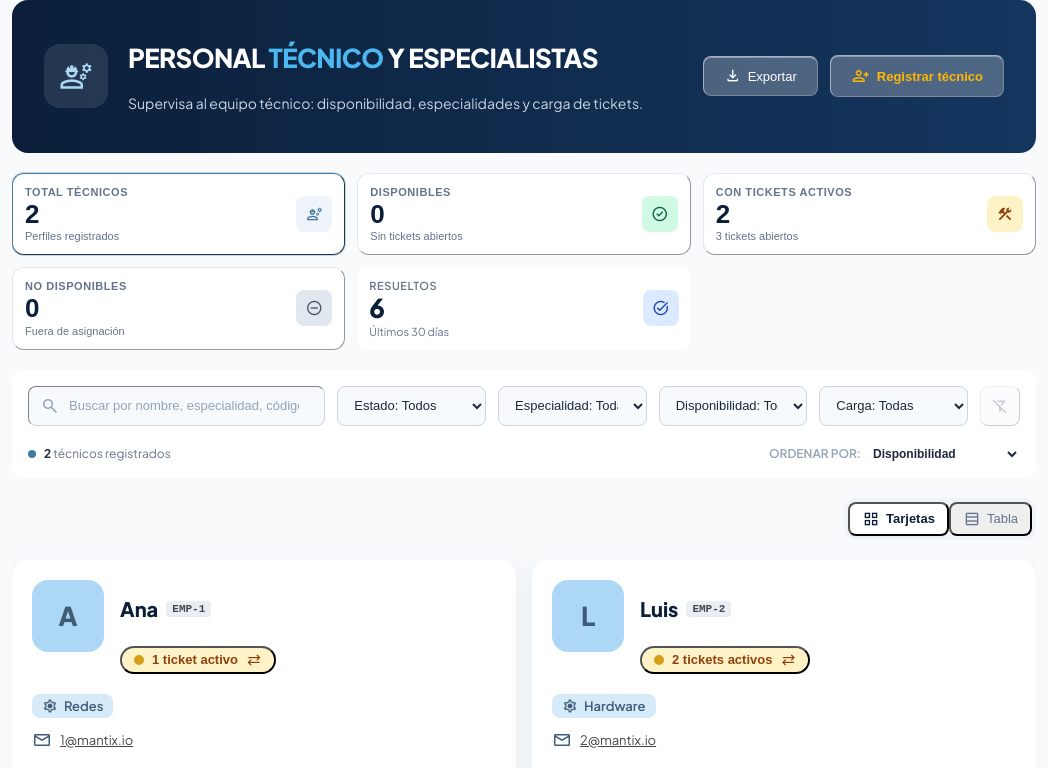
Test: TechniciansComponent › shows the hourly rate and the account state in the table
Click the button "Tabla" at (990, 519), box [949, 502, 1032, 536]
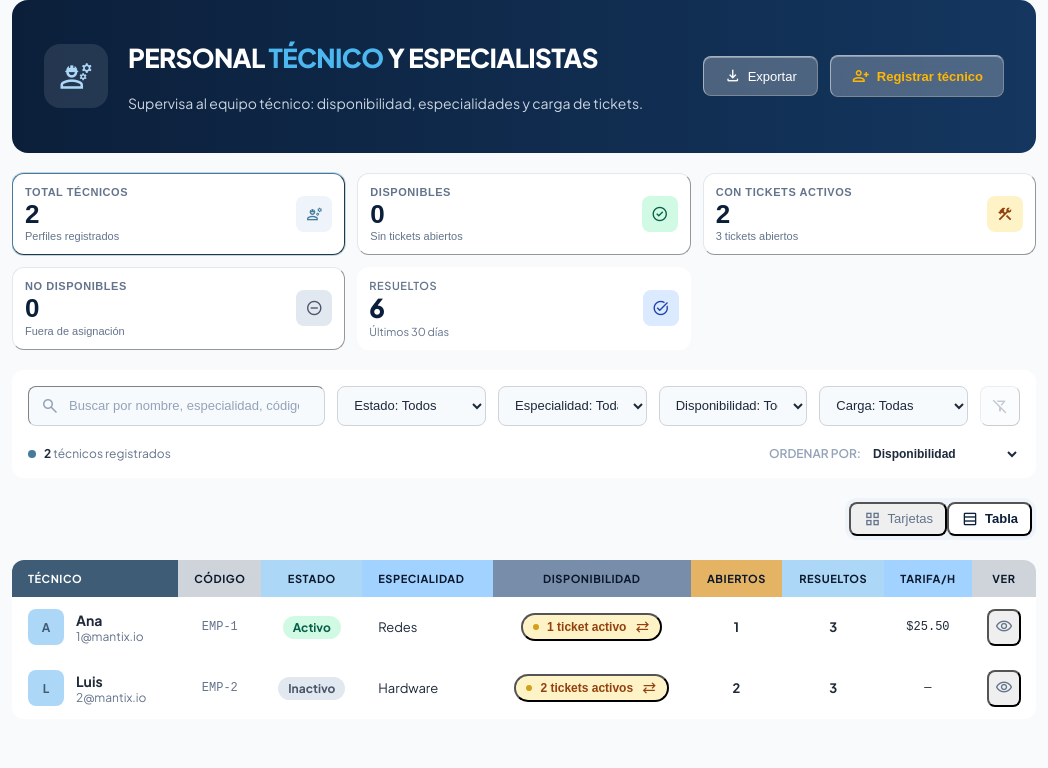
Check: the row that starts with "Ana" shows "25.50", box [906, 620, 950, 634]
Check: the row that starts with "Ana" shows "Activo", box [293, 620, 331, 635]
Check: the row that starts with "Luis" shows "Inactivo", box [288, 681, 335, 696]
